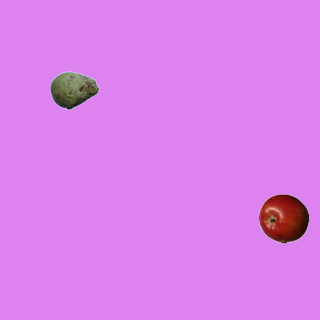Apple Braeburn: (258, 193, 308, 243)
Pear Stone: (49, 65, 99, 115)
